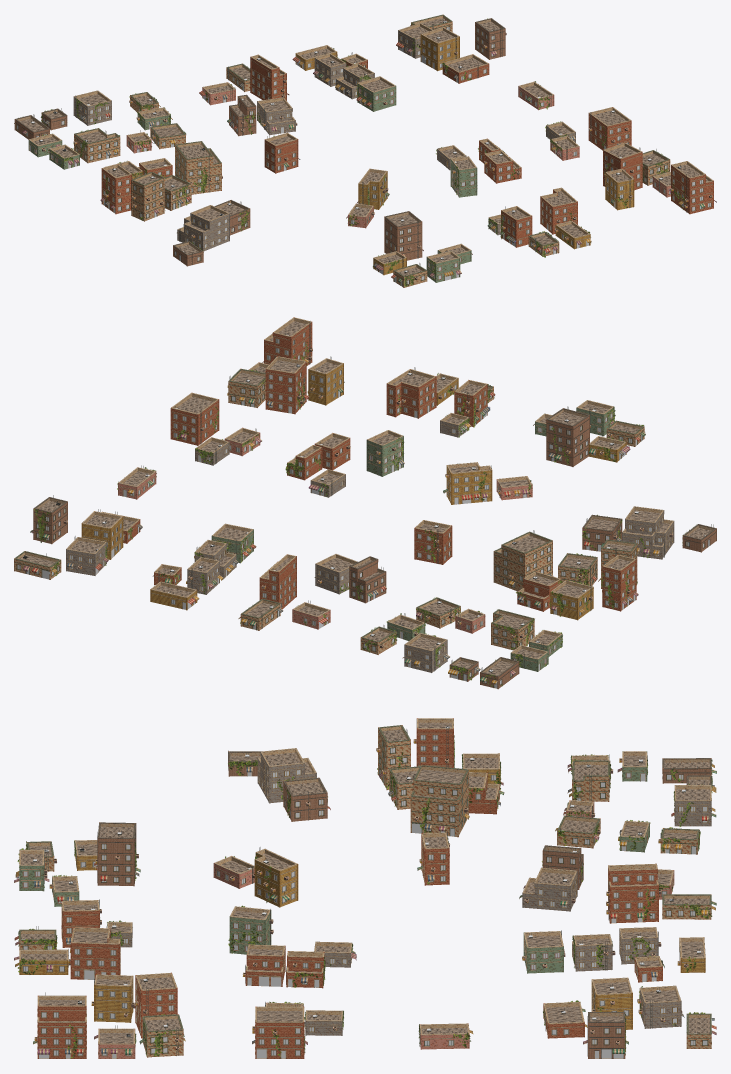
The model's file is toon_city_kit_buildings.glb.
3 views of the same model, one above another, from view 1: azimuth 30°, elevation 25°; view 2: azimuth 150°, elevation 25°; view 3: azimuth 270°, elevation 25° (orthographic). The views are drawn at different scales.
Parts seen in each view (by area): view 1: no part large enough to name; view 2: no part large enough to name; view 3: kit_027, kit_048.
Boxes of the visible parts, box(x1,y1,x2,y2) form: kit_027: box(414, 769, 464, 836); kit_048: box(546, 1006, 582, 1022).
Size of the model in its own units: 174 by 14.6 by 174.
Materials: 18 (16 with a texture image).
